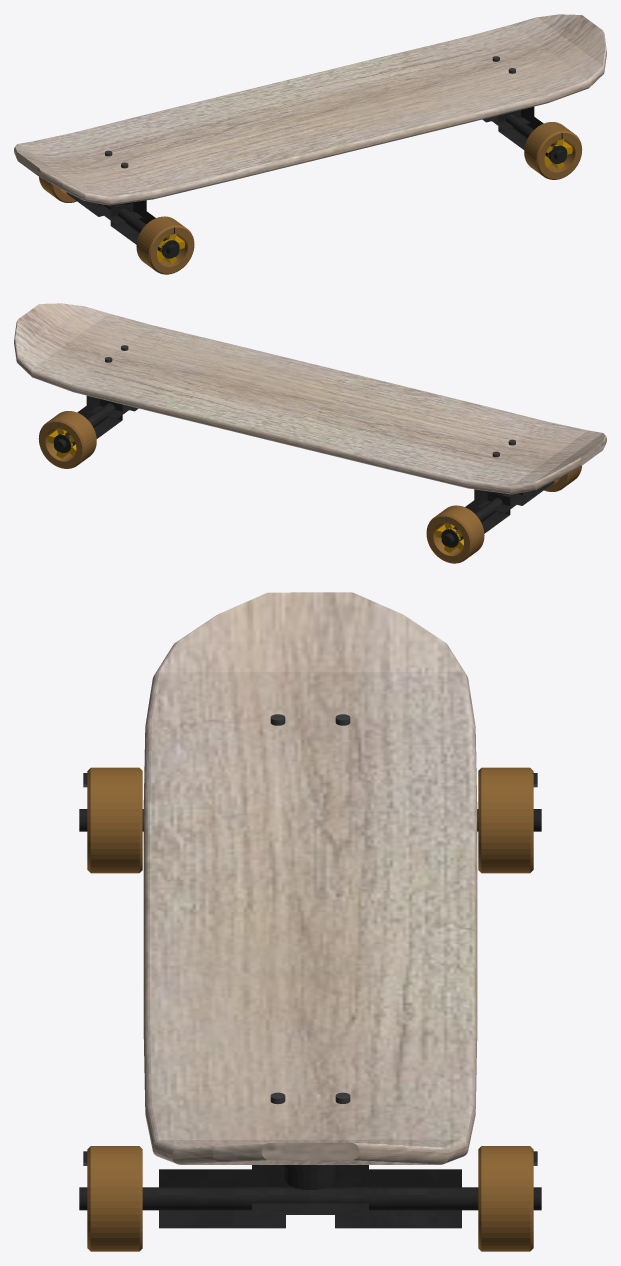
Rendered from Sports_Skateboard__0017.glb.
3 views of the same model, one above another, from view 1: azimuth 30°, elevation 25°; view 2: azimuth 150°, elevation 25°; view 3: azimuth 270°, elevation 25° (orthographic). The views are drawn at different scales.
Visible parts, largest first — view 1: deck::deck_board, rear_wheel_0::urethane_ring, front_wheel_0::urethane_ring, rear_hanger::hanger, front_hanger::hanger, rear_wheel_1::urethane_ring; view 2: deck::deck_board, rear_wheel_1::urethane_ring, front_wheel_1::urethane_ring, rear_hanger::hanger, front_hanger::hanger, rear_wheel_0::urethane_ring; view 3: deck::deck_board, front_hanger::hanger, rear_wheel_0::urethane_ring, rear_wheel_1::urethane_ring, front_wheel_0::urethane_ring, front_wheel_1::urethane_ring.
Part boxes in pixels (box(x1,y1,x2,y2)): deck::deck_board: box(14, 14, 606, 205); rear_wheel_0::urethane_ring: box(136, 216, 194, 274); front_wheel_0::urethane_ring: box(524, 122, 582, 179); rear_hanger::hanger: box(66, 192, 179, 258); front_hanger::hanger: box(482, 106, 567, 163); rear_wheel_1::urethane_ring: box(39, 177, 76, 202); deck::deck_board: box(14, 303, 606, 494); rear_wheel_1::urethane_ring: box(426, 505, 484, 563); front_wheel_1::urethane_ring: box(38, 411, 96, 468); rear_hanger::hanger: box(441, 481, 554, 547); front_hanger::hanger: box(53, 395, 138, 452); rear_wheel_0::urethane_ring: box(544, 466, 581, 491); deck::deck_board: box(143, 592, 477, 1164); front_hanger::hanger: box(79, 1165, 541, 1228); rear_wheel_0::urethane_ring: box(87, 767, 142, 873); rear_wheel_1::urethane_ring: box(478, 767, 533, 873); front_wheel_0::urethane_ring: box(87, 1146, 142, 1251); front_wheel_1::urethane_ring: box(478, 1146, 533, 1251).
Bounding box in the file's own units: 0.8 × 0.1289 × 0.2842.
Materials: 5 (4 with a texture image).
